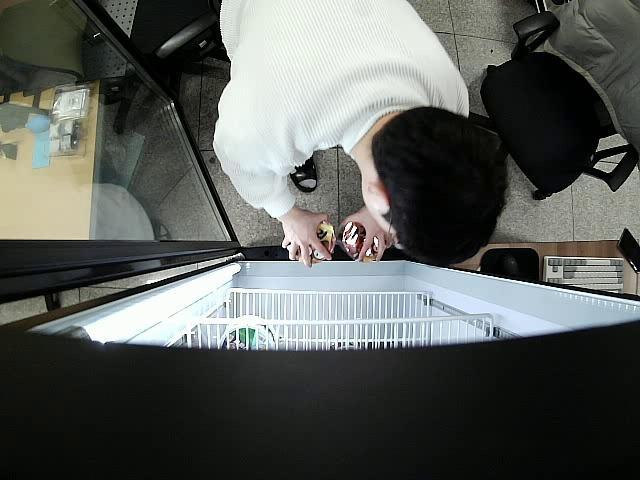05_nuguri_L: (294, 220, 338, 266), (343, 218, 386, 260)
